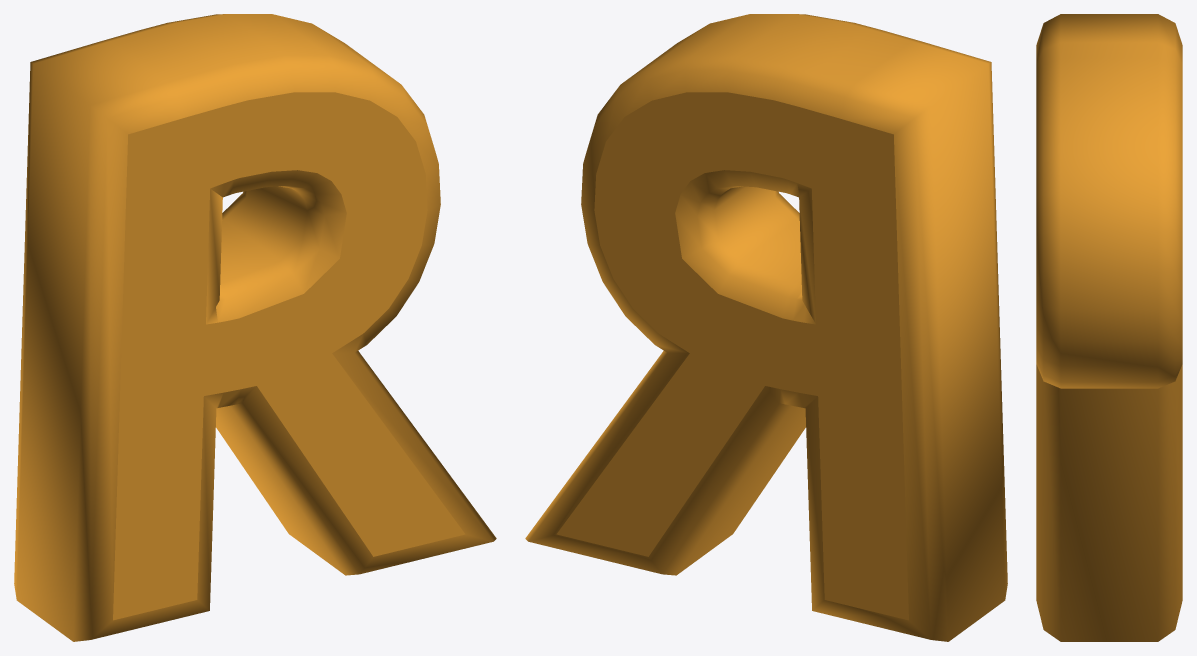
The model's file is R_Caps.fbx.
The picture shows the model from 3 angles, left to right: view 1: azimuth 30°, elevation 25°; view 2: azimuth 150°, elevation 25°; view 3: azimuth 270°, elevation 25°; orthographic projection. The views are drawn at different scales.
Parts seen in each view (by area): view 1: R; view 2: R; view 3: R.
Part boxes in pixels (x1,y1,x2,y2): R: (14,14,496,641); R: (525,14,1007,641); R: (1036,14,1182,641).
Bounding box in the file's own units: 0.5175 × 0.629 × 0.18.
